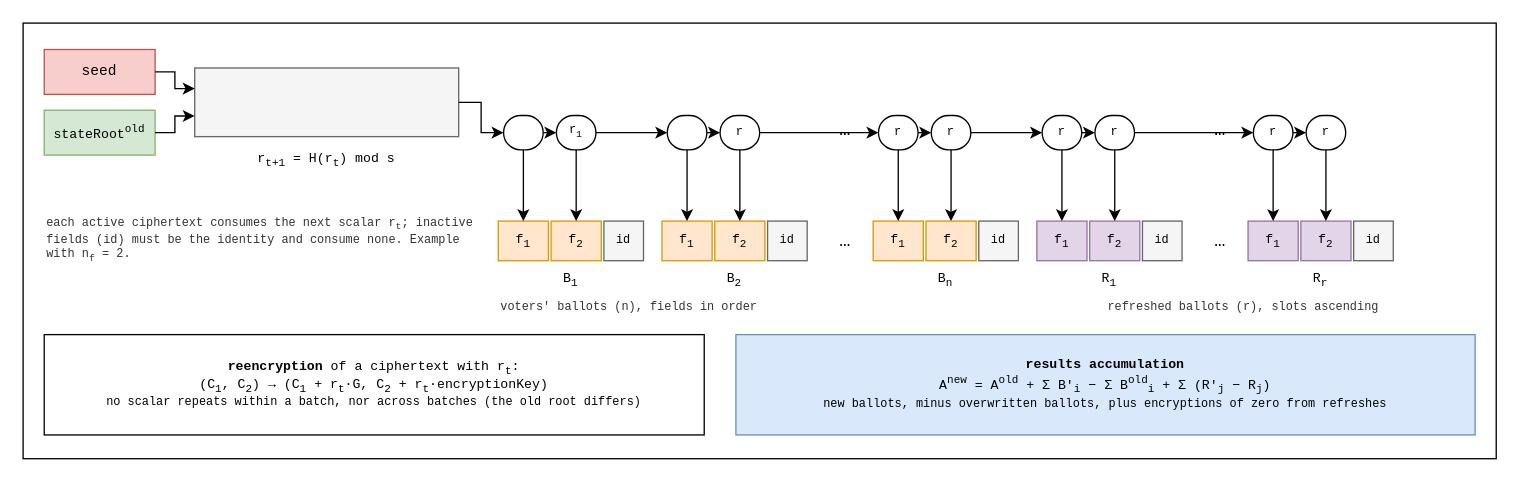
This 1519x482 diagram has some shape labels left out. Each missing label, with the centre of its shape:
r 0: point 522,132
r 0 = H("davinci-reenc-v1" || seed || stateRoot old ) mod s: point 326,102
r 2: point 686,132
